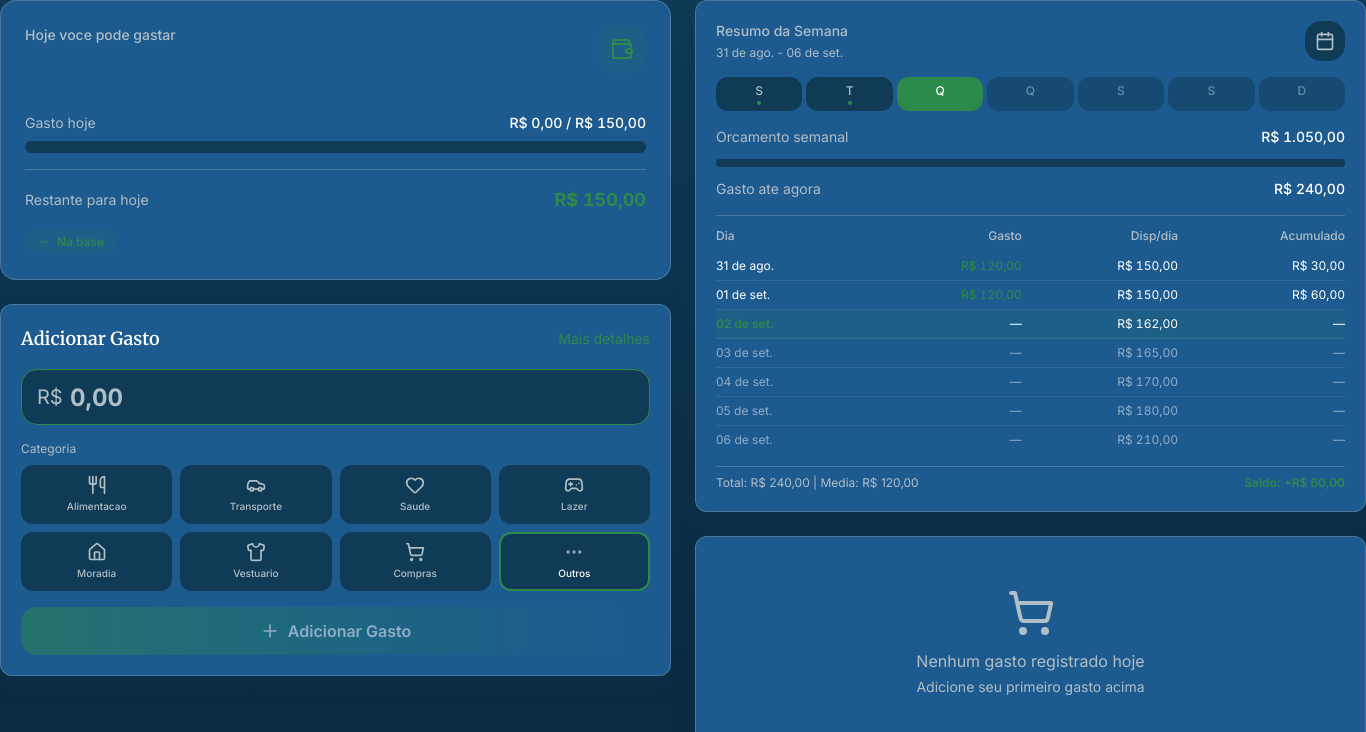
Test: the form follows the selected day › should offer to log the expense on the day being viewed
The width and height of the screenshot is (1366, 732).
Click the 1st button "S" at (759, 94), box [716, 77, 802, 111]
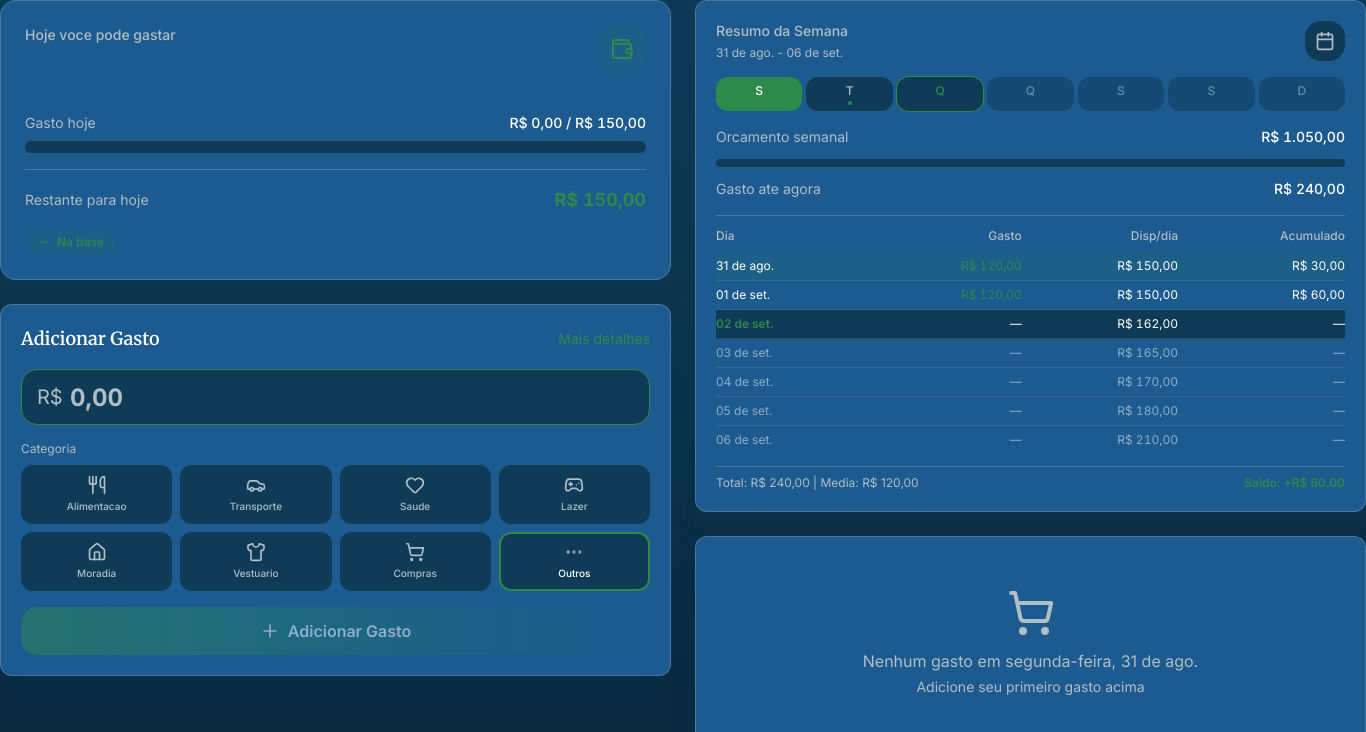
Click the button "Mais detalhes" at (604, 339), box [558, 329, 650, 349]
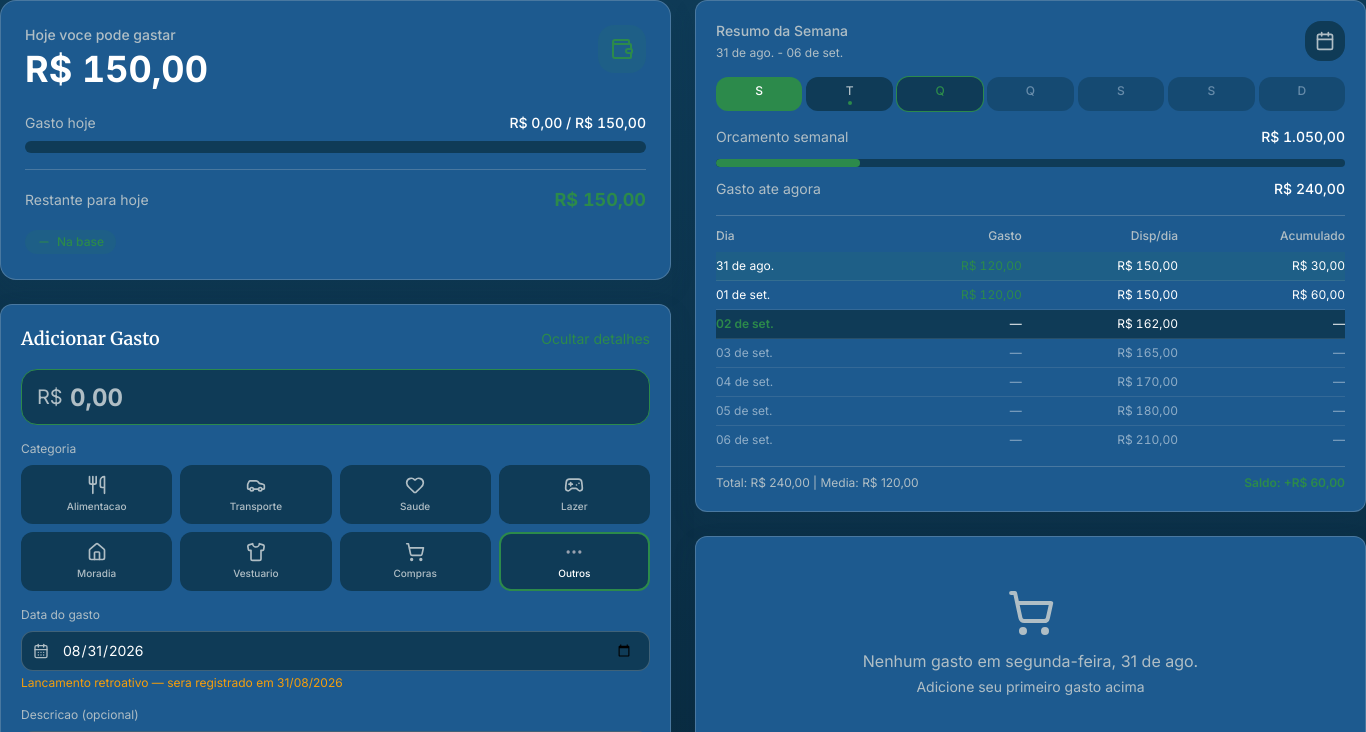
Expected: the date field showing "2026-08-31" is shown, [21, 631, 650, 671]
Expected: the text "Lancamento retroativo — sera registrado em 31/08/2026" is shown, [21, 675, 343, 690]
